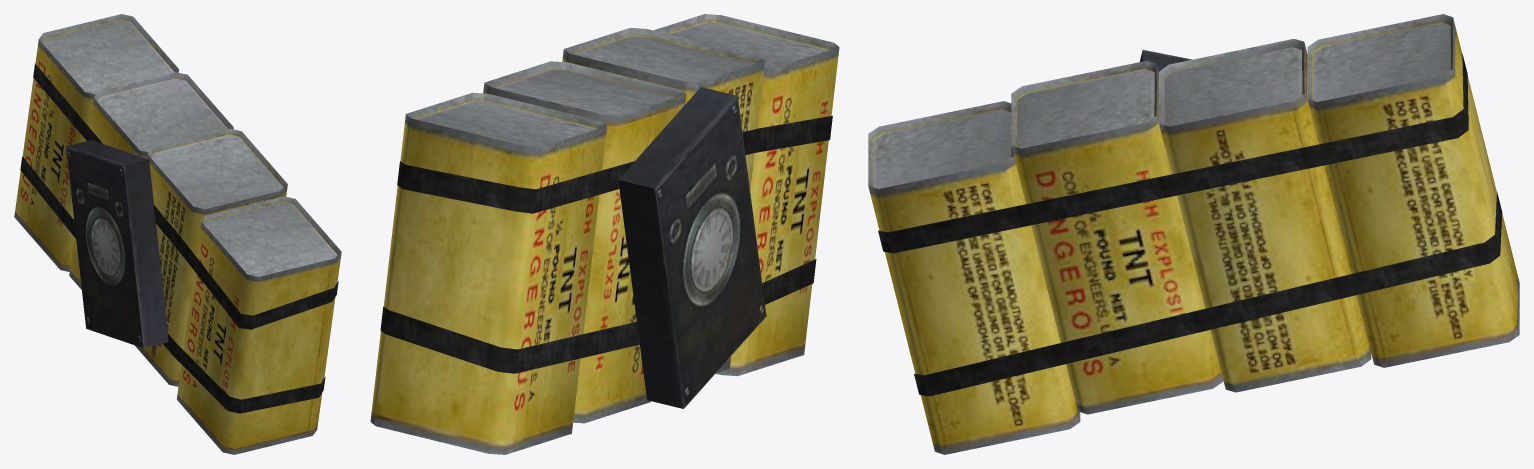
File: military_tntbomb_obj.glb
3 renders of one model, left to right at view 1: azimuth 30°, elevation 25°; view 2: azimuth 150°, elevation 25°; view 3: azimuth 270°, elevation 25°, orthographic. The views are drawn at different scales.
Bounding box in the file's own units: 3.18 × 7.07 × 10.91.
Materials: 1 (1 with a texture image).
